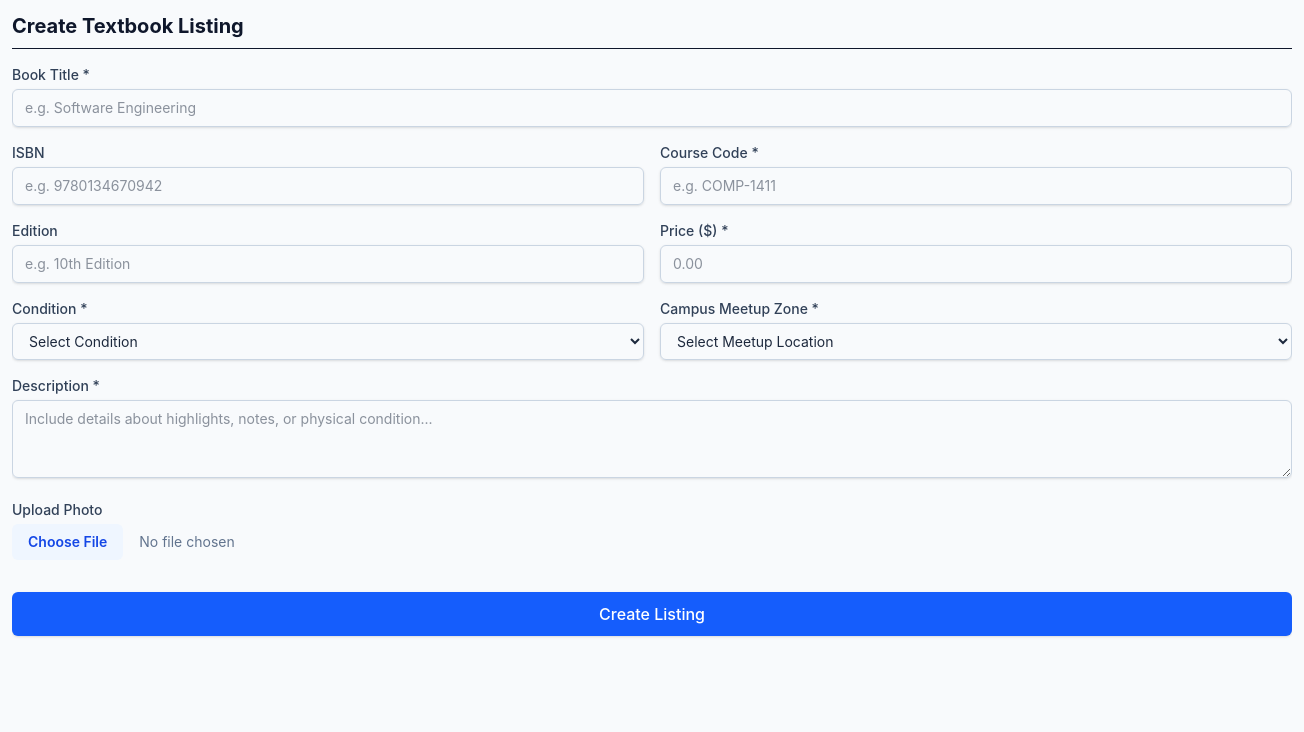
CreateListingForm Component (US-06) › displays a validation error when price is negative
Type "Software Engineering" into the field labelled "Book Title *" at (652, 108), box [12,89,1292,127]
Type "COMP-3155" into the field labelled "Course Code *" at (976, 186), box [660,167,1292,205]
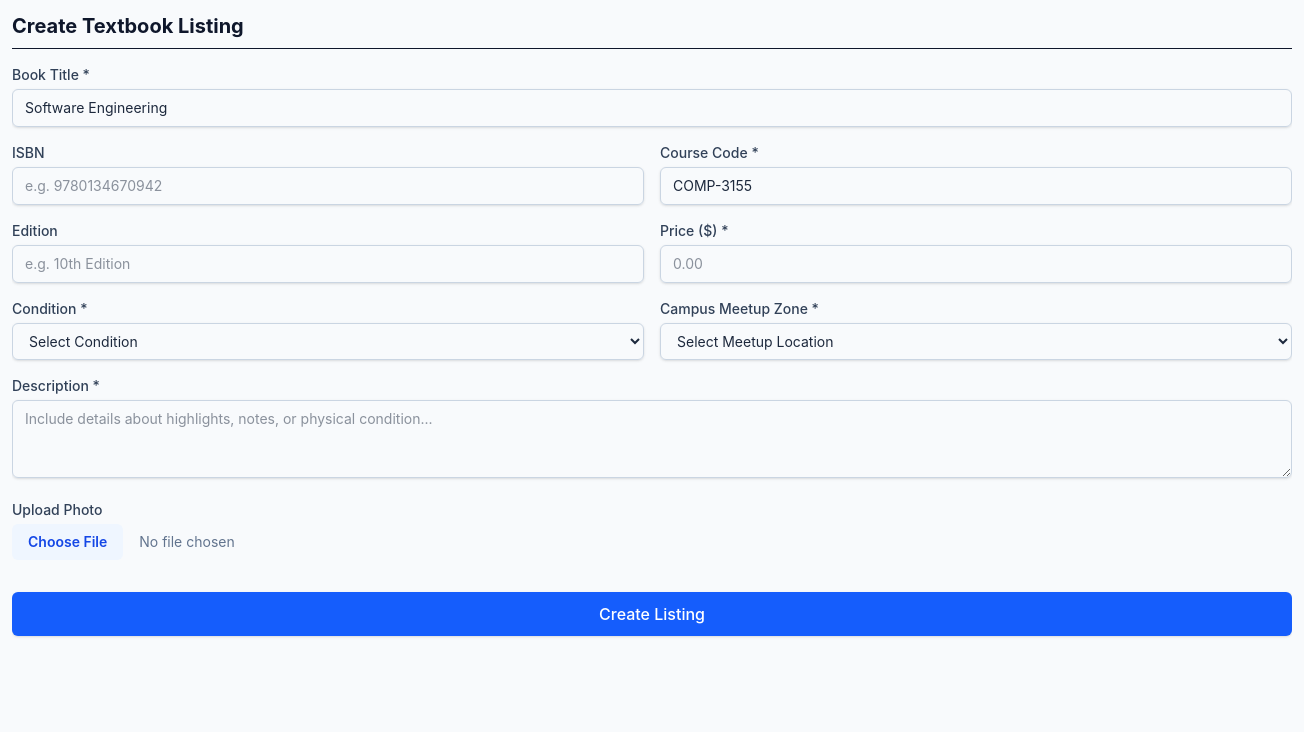
Select "Good" in the dropdown labelled "Condition *" at (328, 342), box [12,323,644,360]
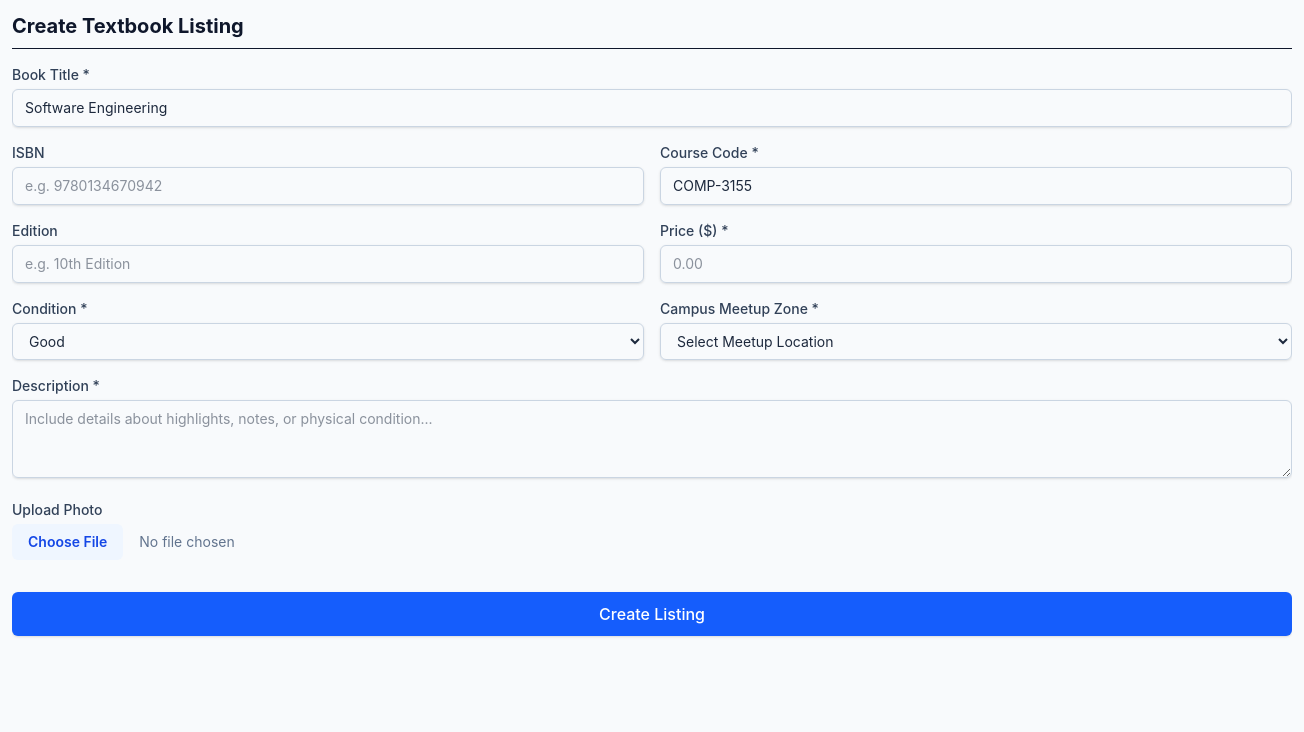
Select "Agora" in the dropdown labelled "Campus Meetup Zone *" at (976, 342), box [660,323,1292,360]
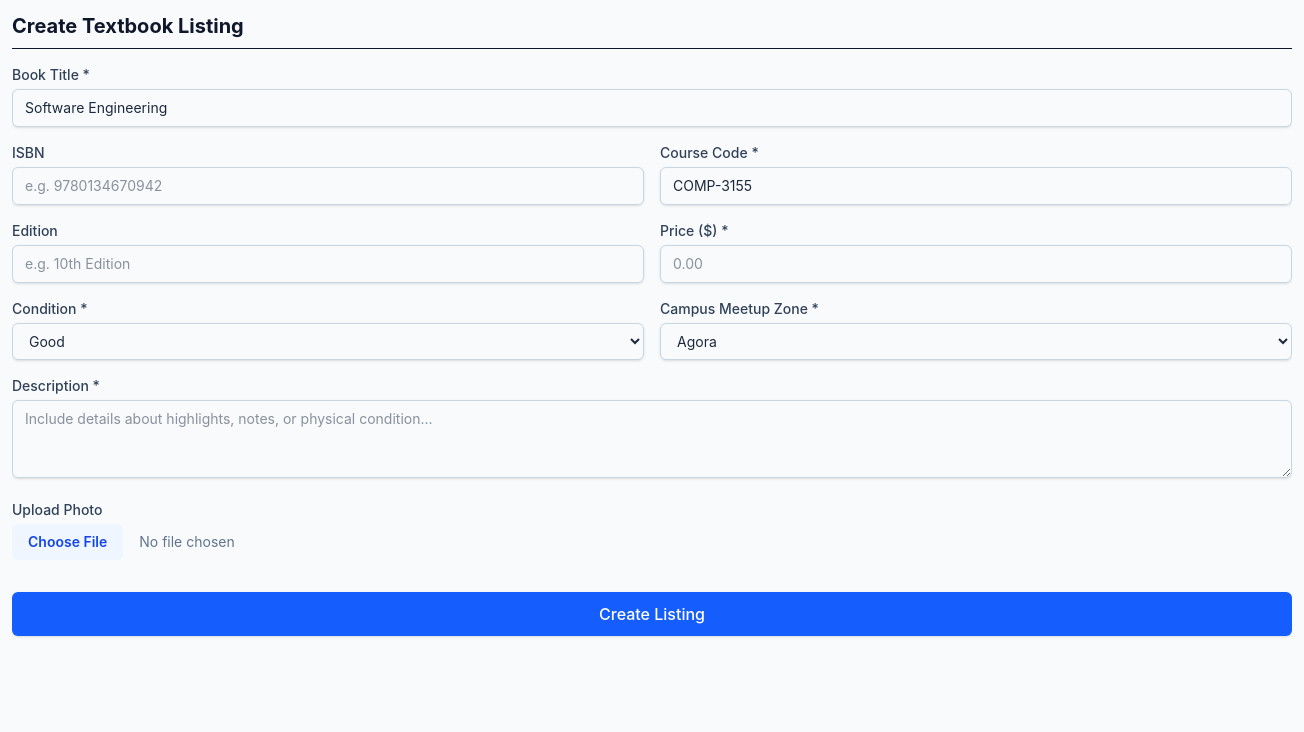
Replace the text in the text box labelled "Description *" with "Great condition book" at (652, 439), box [12,400,1292,478]
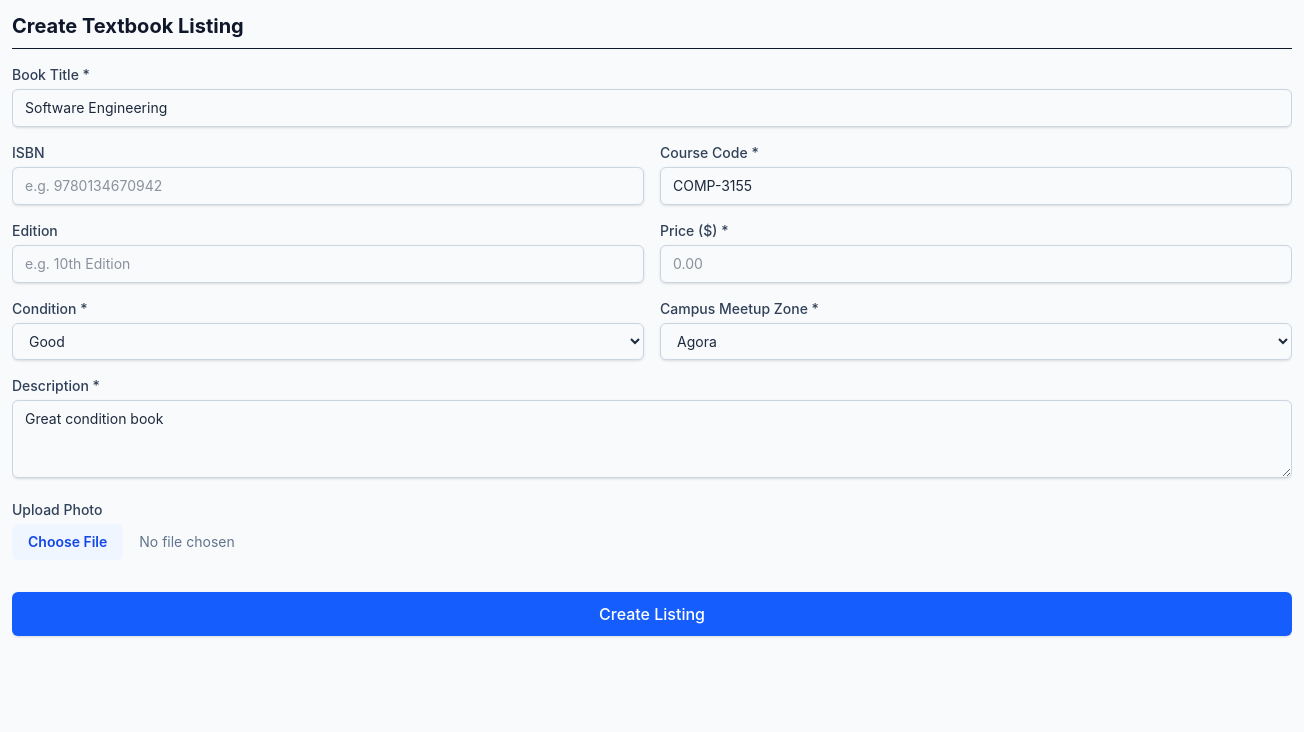
Type "-15.00" into the number field labelled "Price ($) *" at (976, 264), box [660,245,1292,283]
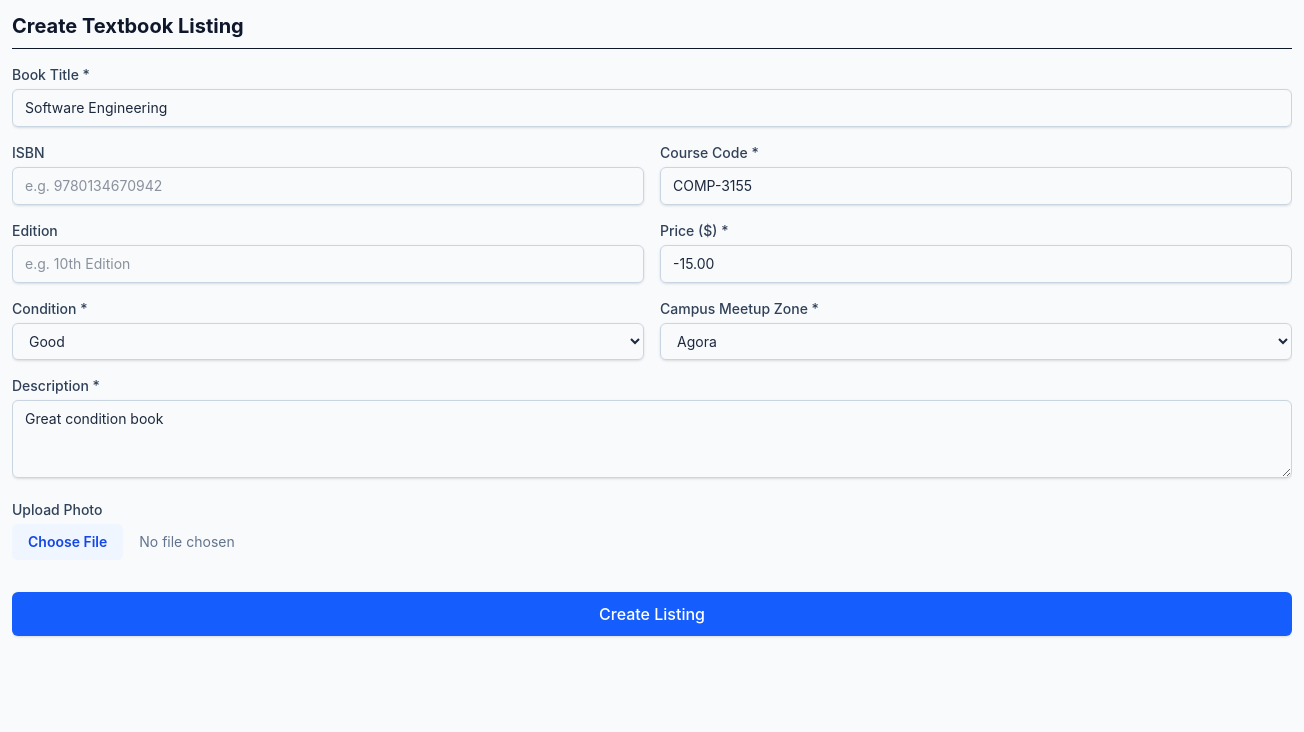
Click the button "Create Listing" at (652, 614), box [12,592,1292,636]
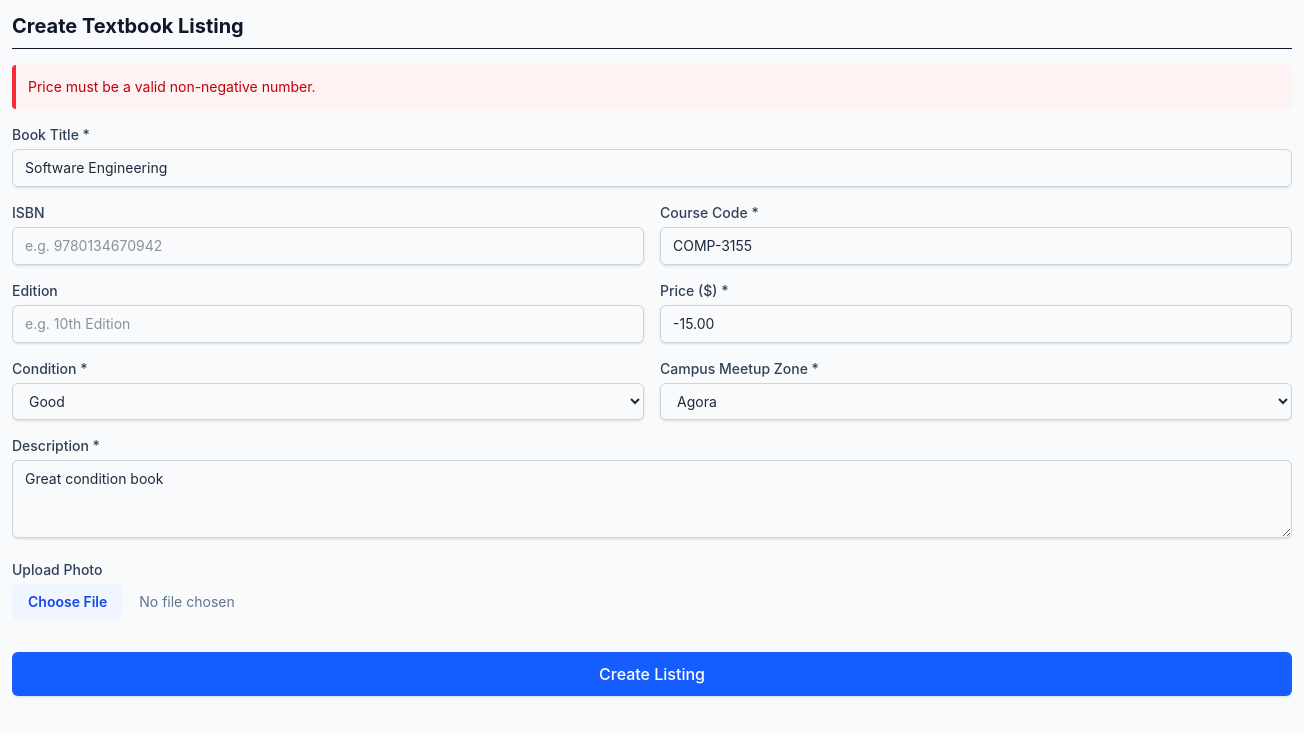
Now the text "Price must be a valid non-negative number." is shown, box [12,65,1292,109]
